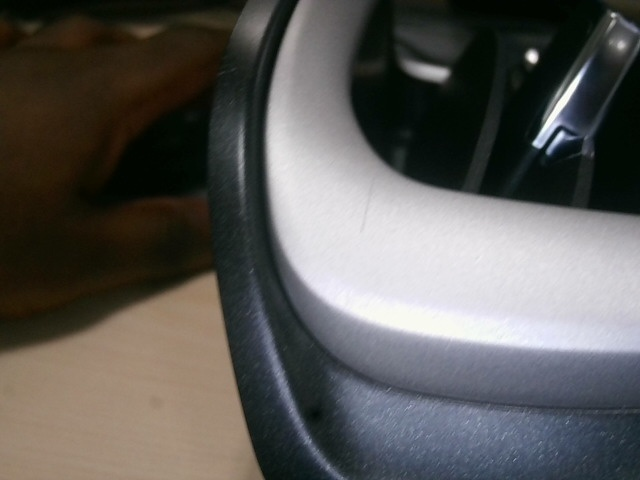NG: (358, 178, 383, 238), (216, 88, 238, 153)
